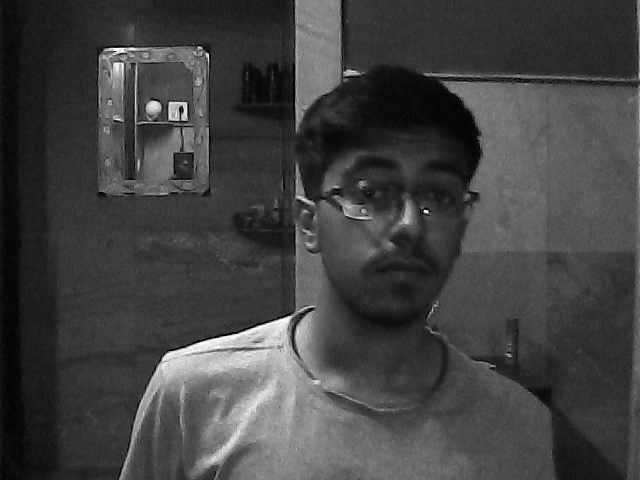nomask: (313, 108, 470, 327)
